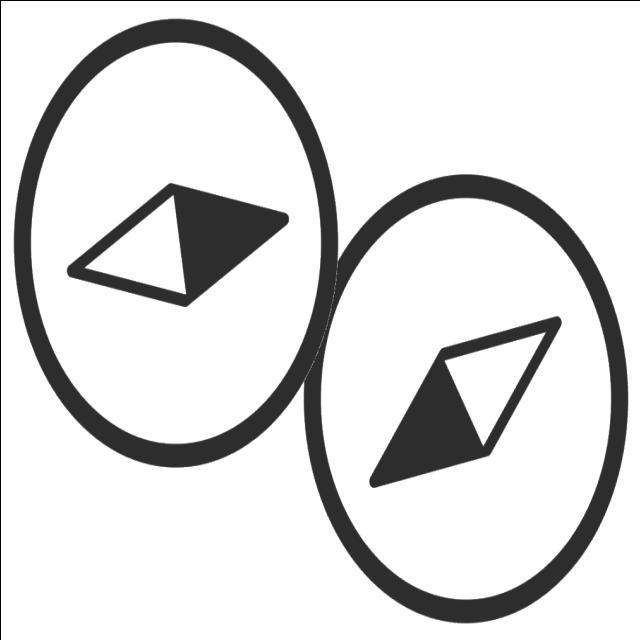compass: (11, 10, 355, 477), (297, 163, 637, 630)
